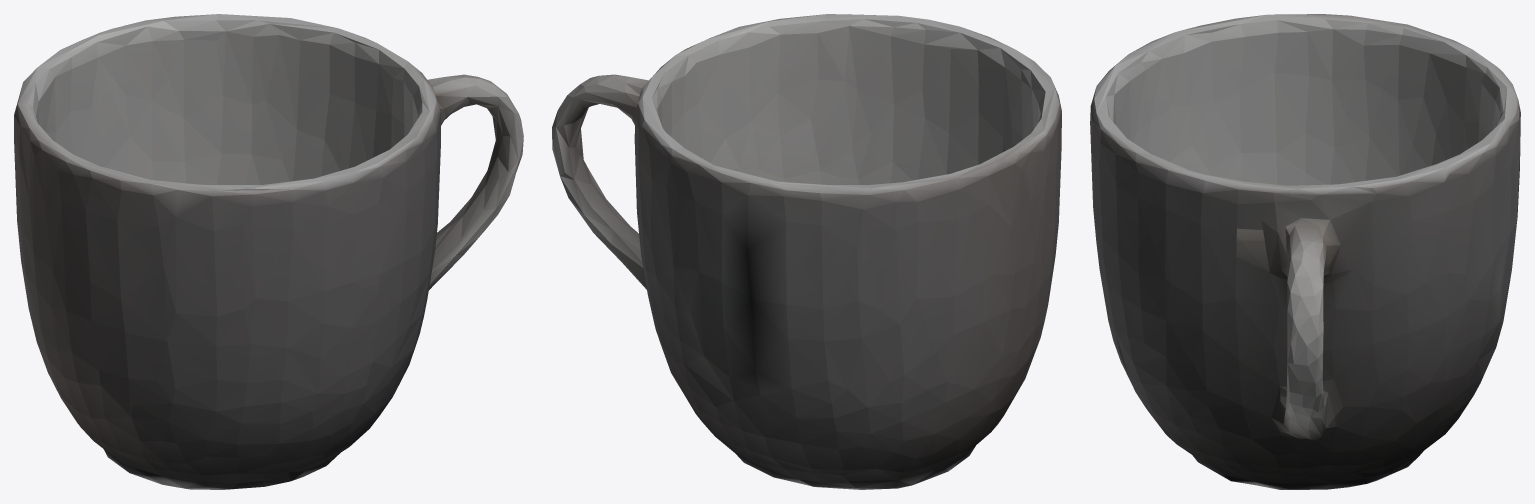
The model's file is cup.glb.
3 views of the same model, side by side, from view 1: azimuth 30°, elevation 25°; view 2: azimuth 150°, elevation 25°; view 3: azimuth 270°, elevation 25° (orthographic).
Visible parts, largest first — view 1: material.obj; view 2: material.obj; view 3: material.obj.
Boxes of the visible parts, box(x1,y1,x2,y2) form: material.obj: box(14, 14, 523, 489); material.obj: box(552, 14, 1061, 489); material.obj: box(1090, 14, 1520, 489).
Size of the model in its own units: 0.9987 by 0.6804 by 0.7795.
Materials: 1 (1 with a texture image).
